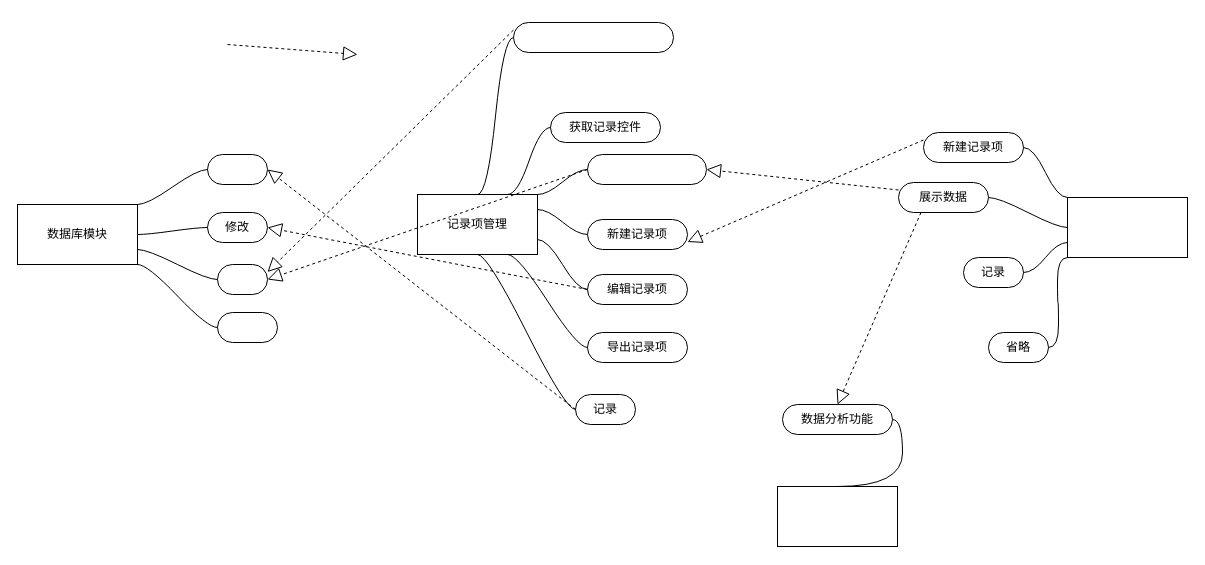
This 1205x565 diagram has some shape labels left out. The centre of each missing label's shape, as x and y in pixels:
android界面: the point at 1127,227
储存: the point at 237,169
删除: the point at 247,327
数据分析模块: the point at 837,516
查询: the point at 242,279
获取记录数据: the point at 646,169
获取记录项的基本信息: the point at 593,37
